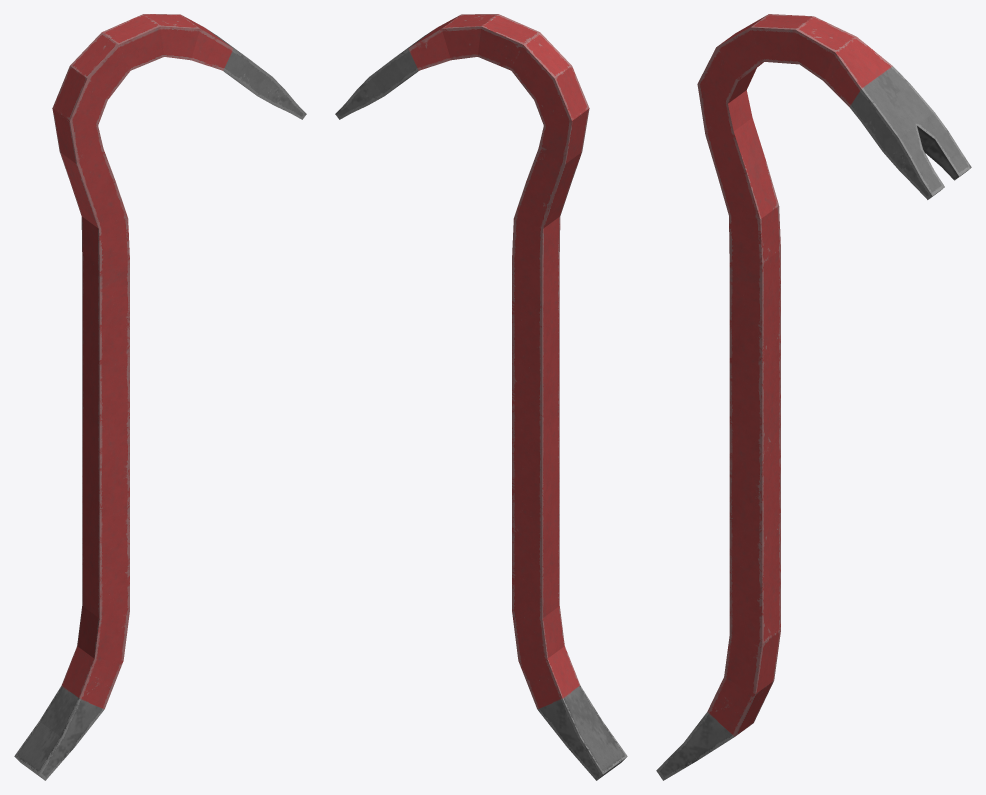
The model's file is crowbar.fbx.
3 views of the same model, side by side, from view 1: azimuth 30°, elevation 25°; view 2: azimuth 150°, elevation 25°; view 3: azimuth 330°, elevation 25° (orthographic). The views are drawn at different scales.
Parts seen in each view (by area): view 1: Crowbar; view 2: Crowbar; view 3: Crowbar.
Part boxes in pixels (x1=…): Crowbar: x1=14, y1=14, x2=306, y2=780; Crowbar: x1=335, y1=14, x2=627, y2=780; Crowbar: x1=656, y1=14, x2=971, y2=780.
Bounding box in the file's own units: 100 × 264 × 24.07.
1 material, 1 textured.
